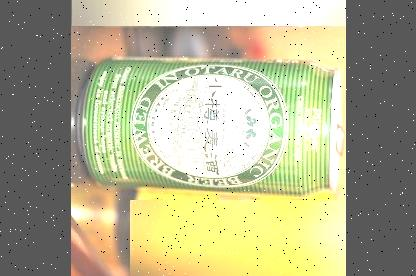Can: (76, 61, 344, 198)
